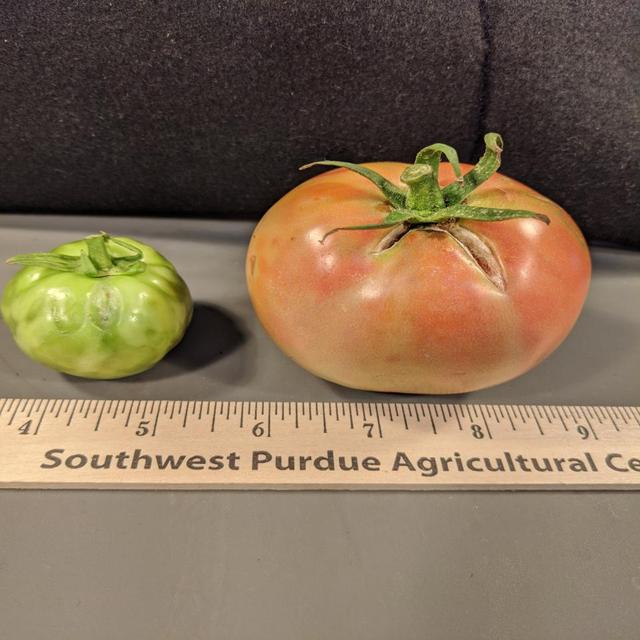Spotted wilt Virus Fruit: (0, 123, 200, 222)
